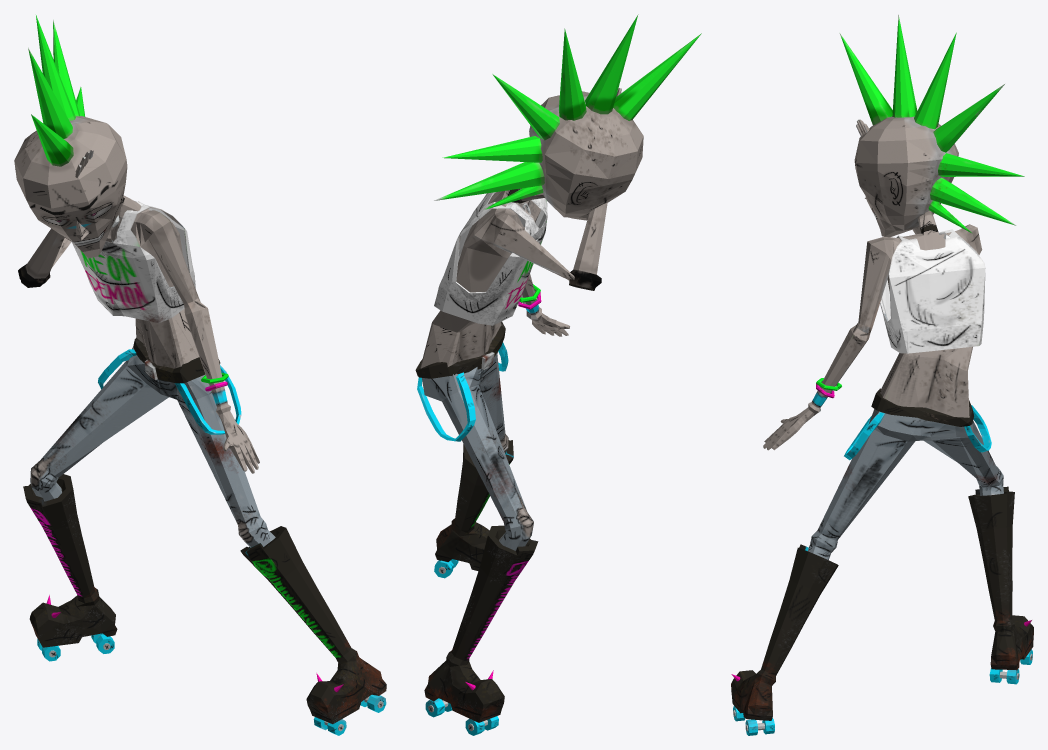
The model's file is punkAnimation_000012.obj.
3 views of the same model, side by side, from view 1: azimuth 30°, elevation 25°; view 2: azimuth 150°, elevation 25°; view 3: azimuth 270°, elevation 25° (orthographic). The views are drawn at different scales.
Parts seen in each view (by area): view 1: Cube.004_Cube.003; view 2: Cube.004_Cube.003; view 3: Cube.004_Cube.003.
Boxes of the visible parts, x1,y1,x2,y2 form: Cube.004_Cube.003: [14, 15, 386, 735]; Cube.004_Cube.003: [415, 14, 701, 735]; Cube.004_Cube.003: [731, 15, 1033, 735].
Size of the model in its own units: 3.17 by 6.71 by 3.01.
